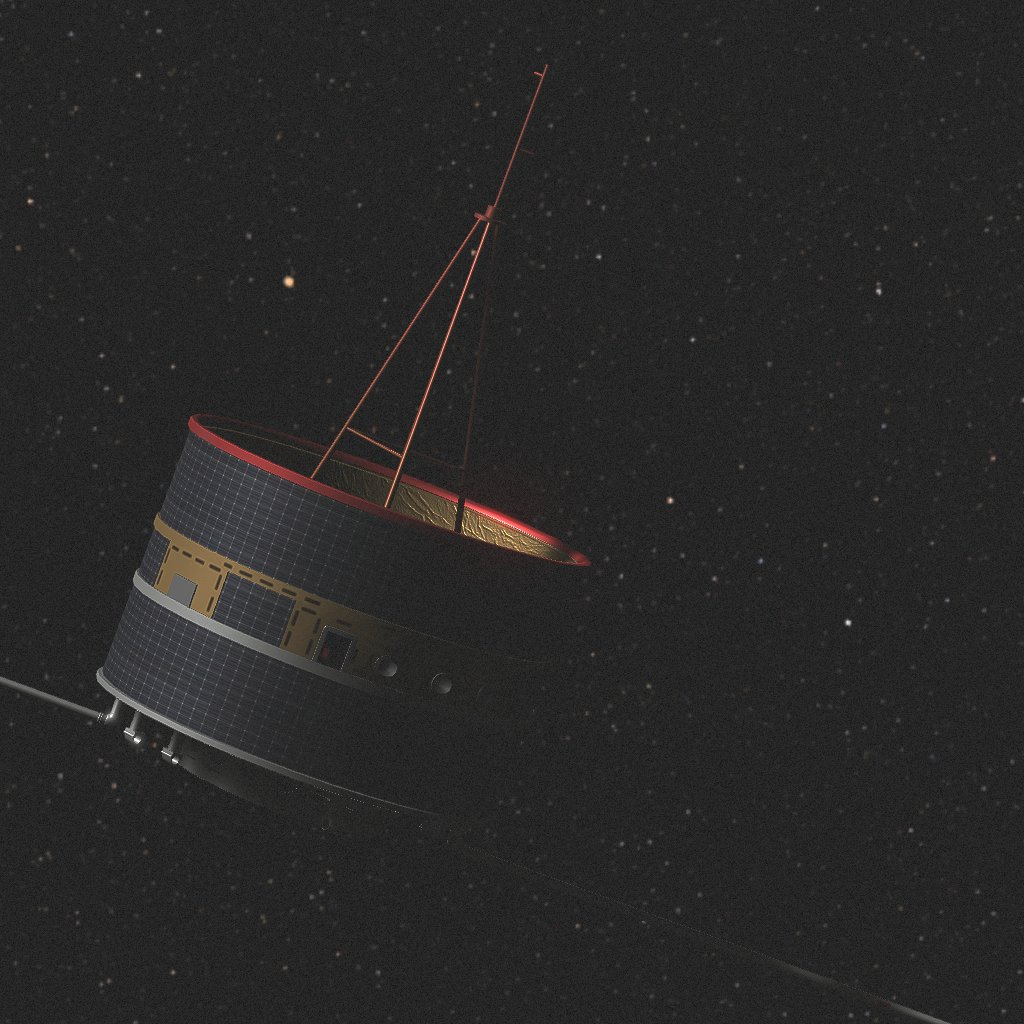double_star: (0, 64, 950, 1024)
